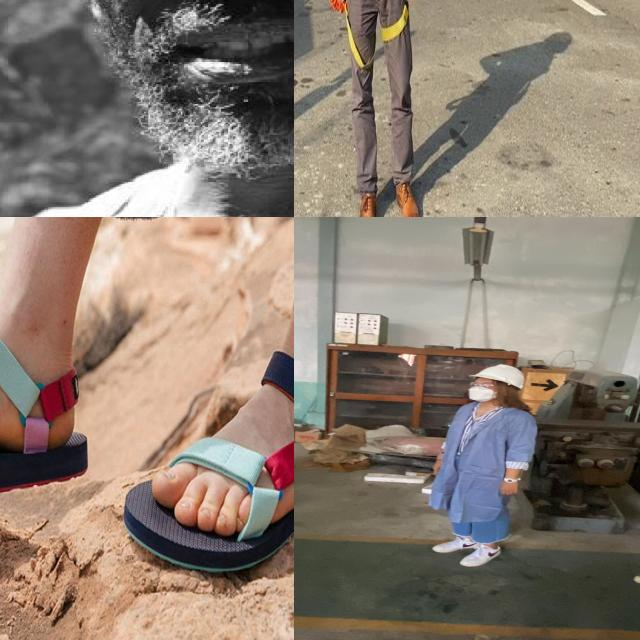Harness: (327, 0, 417, 70)
Sandals: (124, 329, 294, 574), (0, 331, 89, 514)
face_mask: (465, 380, 498, 403)
face_nomask: (84, 0, 294, 106)
glasses: (468, 381, 497, 391)
hand_noglove: (498, 478, 522, 497)
head_helmet: (466, 363, 529, 388)
person: (421, 363, 541, 569)
shoes: (455, 538, 505, 567), (428, 535, 488, 554)
